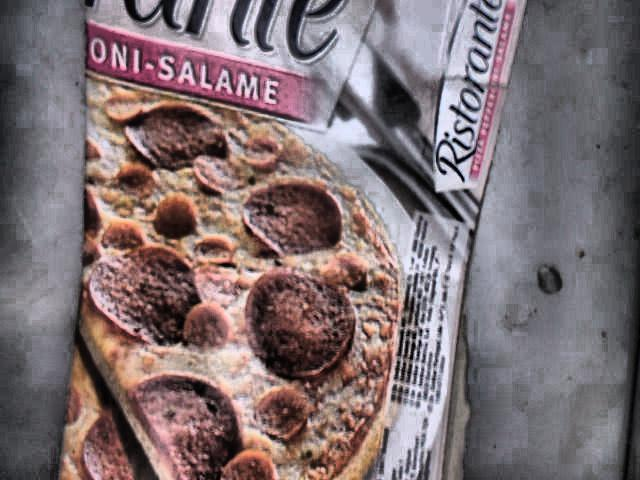Paper: (63, 0, 529, 480)
